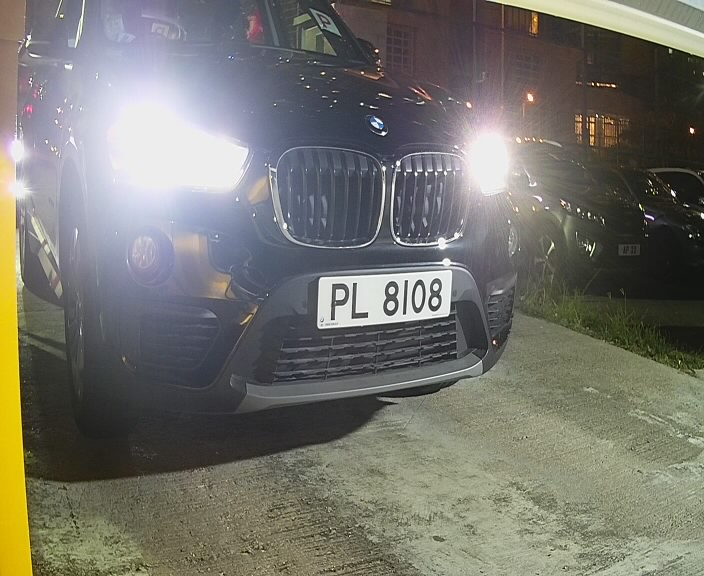License Plate: (305, 261, 460, 340)
